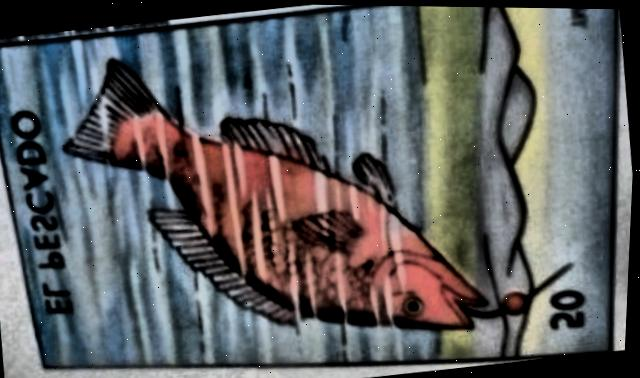El Pescado: (0, 4, 617, 367)
